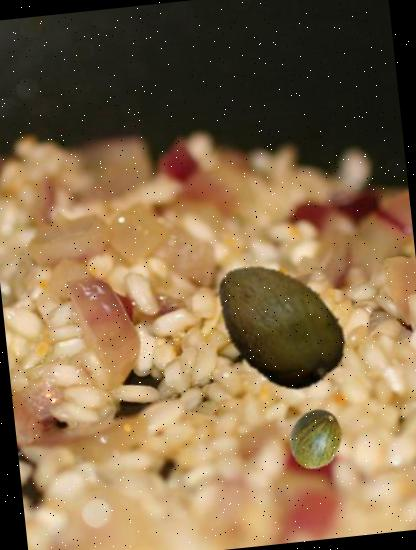Melon: (284, 407, 348, 472)
Papaya: (198, 242, 360, 404)
